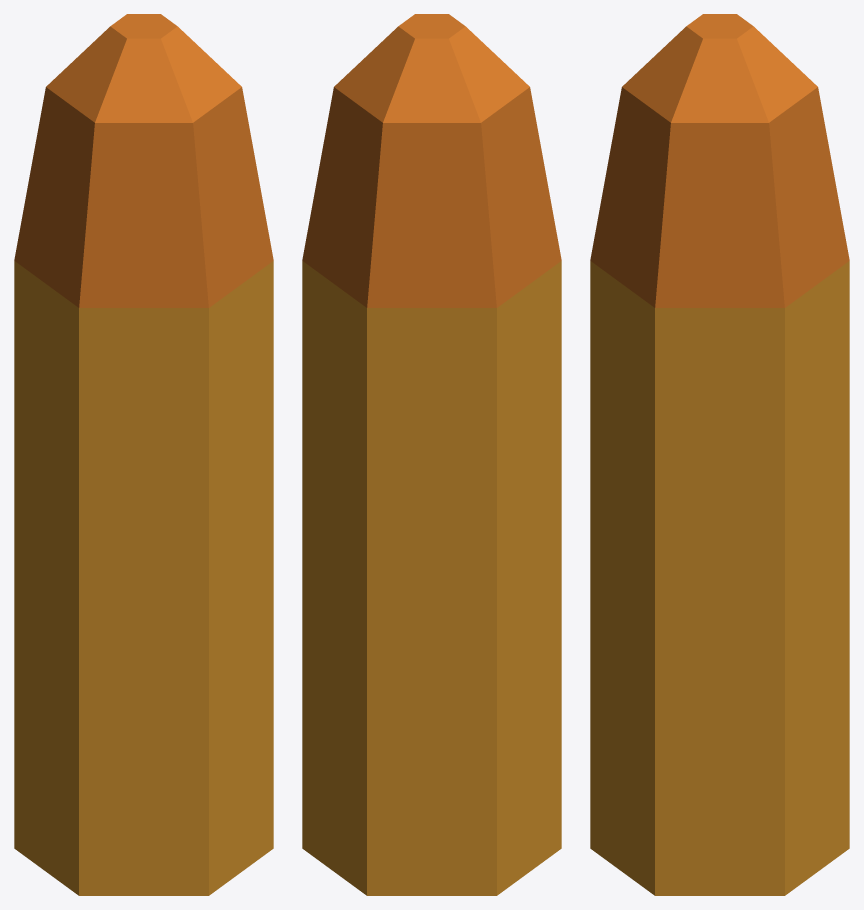
File: bullet.fbx
3 views of the same model, side by side, from view 1: azimuth 30°, elevation 25°; view 2: azimuth 150°, elevation 25°; view 3: azimuth 270°, elevation 25° (orthographic).
Visible parts, largest first — view 1: bullet; view 2: bullet; view 3: bullet.
Boxes of the visible parts, x1,y1,x2,y2 form: bullet: (14, 14, 273, 895); bullet: (302, 14, 561, 895); bullet: (590, 14, 849, 895).
Bounding box in the file's own units: 0.7113 × 2.87 × 0.8213.
